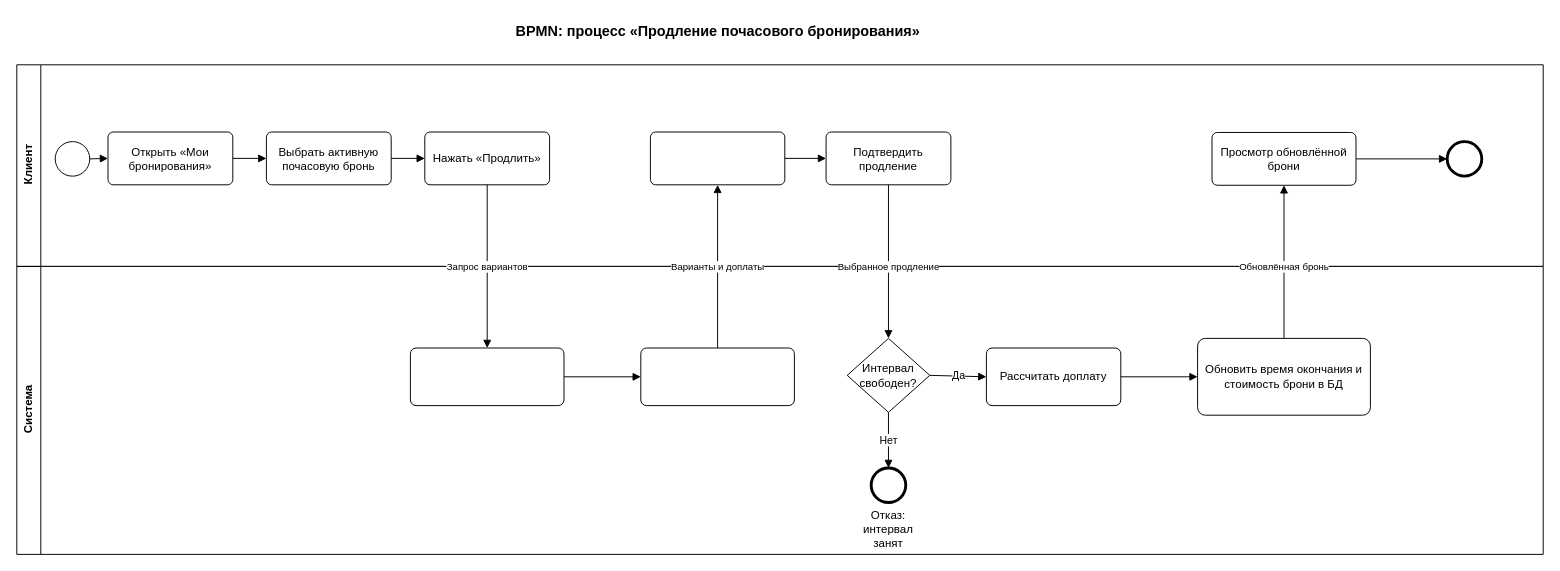
This 1560x571 diagram has some shape labels left out. The shapes that lost their labels are listed below. From the top down, each one's centre as x and y in pixels, then its label:
At point 72,158: "Начало".
At point 717,158: "Выбрать вариант продления (+x ч)".
At point 1464,158: "Бронь продлена".
At point 486,376: "Проверить доступность интервалов +1/+2/+3 ч".
At point 717,376: "Сформировать варианты продления и доплаты".
